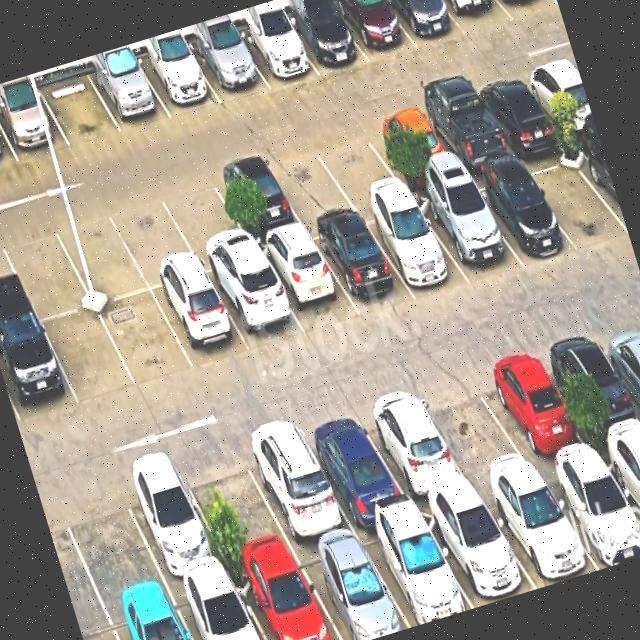empty: (409, 363, 538, 493), (173, 439, 293, 568), (52, 471, 165, 607), (517, 142, 628, 247), (49, 203, 150, 305), (156, 170, 256, 273), (106, 189, 203, 289), (97, 290, 195, 387), (41, 307, 136, 405), (0, 219, 92, 320), (262, 139, 355, 222), (310, 124, 403, 204), (37, 71, 121, 146)
occupied: (235, 415, 354, 548), (472, 345, 595, 473), (112, 454, 228, 585), (353, 385, 476, 508), (294, 403, 412, 529), (481, 475, 599, 588), (357, 513, 473, 627), (420, 496, 536, 608), (292, 534, 410, 640), (541, 326, 640, 452), (254, 228, 359, 336), (463, 164, 574, 265), (412, 182, 523, 283), (540, 457, 640, 569), (307, 211, 414, 315), (359, 197, 469, 296), (230, 552, 341, 640), (152, 274, 250, 370), (207, 259, 305, 351), (415, 89, 514, 174), (0, 318, 78, 424), (208, 154, 303, 241), (363, 107, 458, 185), (471, 72, 562, 151), (169, 570, 265, 640), (281, 1, 368, 75), (135, 45, 221, 118), (87, 58, 171, 132), (233, 18, 318, 88), (519, 57, 595, 134), (188, 32, 268, 102), (331, 0, 416, 62), (0, 85, 69, 161), (570, 133, 624, 218), (105, 588, 192, 640), (592, 312, 640, 403), (387, 0, 465, 48), (600, 440, 640, 517), (440, 0, 513, 37), (498, 0, 559, 20)
